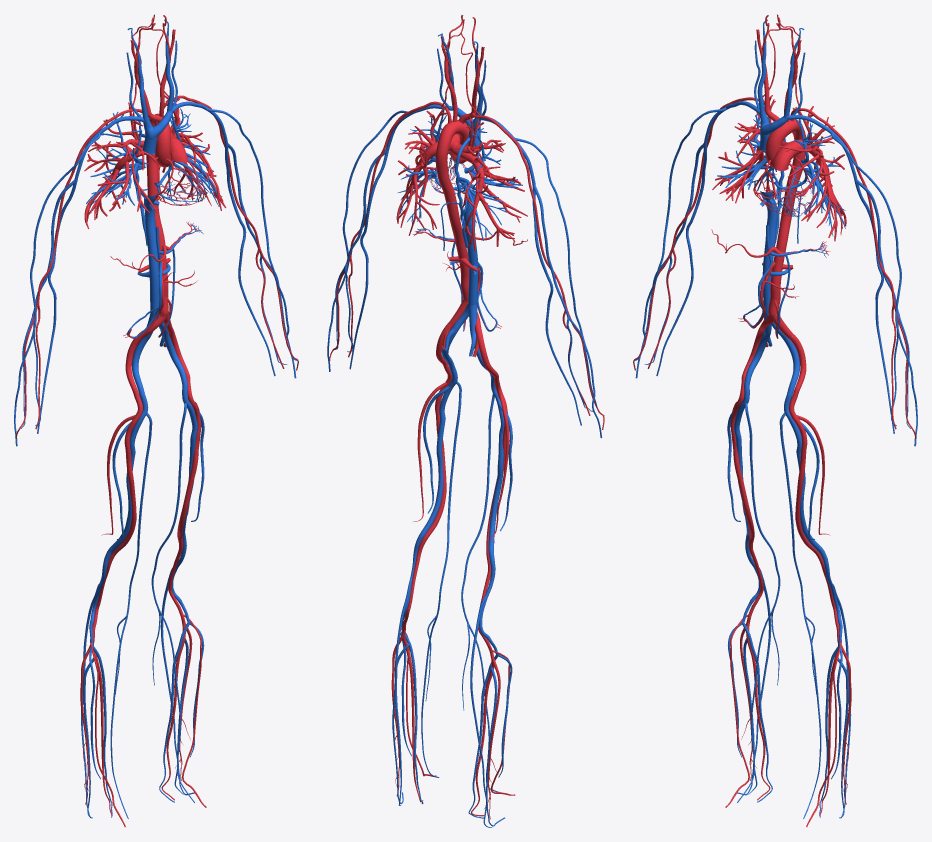
File: gefaesssystem.glb
3 renders of one model, left to right at view 1: azimuth 30°, elevation 25°; view 2: azimuth 150°, elevation 25°; view 3: azimuth 330°, elevation 25°, orthographic. The views are drawn at different scales.
Visible parts, largest first — view 1: Great saphenous vein.l, Great saphenous vein.r, Femoral artery.r, Cephalic vein.r, Femoral artery.l, Cephalic vein.l, Femoral vein.r, Basilic vein.l, Inferior vena cava (abdominal part), Basilic vein.r, Femoral vein.l; view 2: Great saphenous vein.l, Great saphenous vein.r, Femoral vein.l, Thoracic aorta, Femoral vein.r, Cephalic vein.r, Femoral artery.l, Cephalic vein.l, Basilic vein.r, Basilic vein.l, Abdominal aorta, Small saphenous vein.r (+3 smaller); view 3: Great saphenous vein.r, Great saphenous vein.l, Femoral artery.l, Abdominal aorta, Cephalic vein.l, Femoral artery.r, Cephalic vein.r, Femoral vein.l, Basilic vein.r, Basilic vein.l, Femoral vein.r, Thoracic aorta.
Boxes of the visible parts, bbox=[...] form: Great saphenous vein.l: bbox=[151, 403, 194, 802]; Great saphenous vein.r: bbox=[110, 412, 152, 818]; Femoral artery.r: bbox=[114, 387, 142, 552]; Cephalic vein.r: bbox=[14, 133, 100, 446]; Femoral artery.l: bbox=[177, 374, 201, 537]; Cephalic vein.l: bbox=[205, 107, 296, 378]; Femoral vein.r: bbox=[111, 394, 148, 550]; Basilic vein.l: bbox=[225, 144, 275, 376]; Inferior vena cava (abdominal part): bbox=[146, 238, 159, 313]; Basilic vein.r: bbox=[37, 181, 77, 433]; Femoral vein.l: bbox=[182, 384, 197, 533]; Great saphenous vein.l: bbox=[421, 381, 461, 777]; Great saphenous vein.r: bbox=[461, 394, 500, 792]; Femoral vein.l: bbox=[422, 366, 457, 533]; Thoracic aorta: bbox=[435, 145, 459, 222]; Femoral vein.r: bbox=[488, 378, 504, 548]; Cephalic vein.r: bbox=[515, 138, 602, 438]; Femoral artery.l: bbox=[425, 362, 452, 536]; Cephalic vein.l: bbox=[327, 110, 407, 371]; Basilic vein.r: bbox=[532, 186, 581, 425]; Basilic vein.l: bbox=[349, 150, 388, 369]; Abdominal aorta: bbox=[450, 219, 469, 301]; Small saphenous vein.r: bbox=[470, 596, 504, 826]; Great saphenous vein.r: bbox=[737, 403, 780, 802]; Great saphenous vein.l: bbox=[779, 412, 821, 818]; Femoral artery.l: bbox=[789, 387, 817, 552]; Abdominal aorta: bbox=[768, 213, 792, 315]; Cephalic vein.l: bbox=[831, 133, 917, 446]; Femoral artery.r: bbox=[730, 374, 754, 537]; Cephalic vein.r: bbox=[635, 107, 726, 378]; Femoral vein.l: bbox=[784, 394, 820, 550]; Basilic vein.r: bbox=[656, 144, 706, 376]; Basilic vein.l: bbox=[854, 181, 894, 433]; Femoral vein.r: bbox=[734, 384, 749, 533]; Thoracic aorta: bbox=[781, 131, 806, 214].
Size of the model in its own units: 0.5751 by 1.57 by 0.1922.
